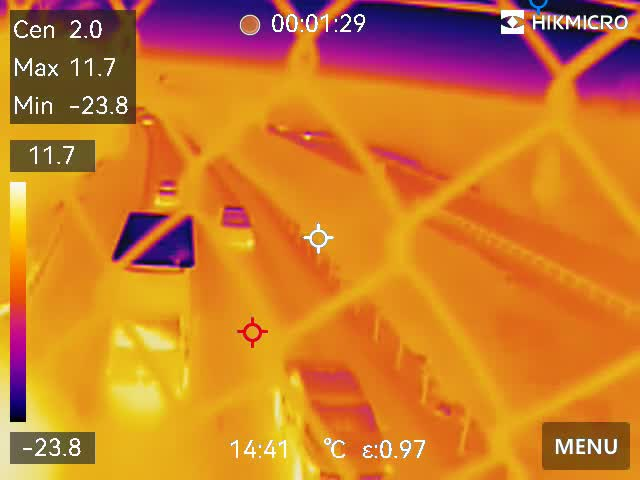heavyTruck: (99, 208, 207, 423)
lightTruck: (274, 351, 396, 480)
vehicle: (212, 203, 260, 248), (154, 175, 178, 207), (137, 113, 155, 126)
